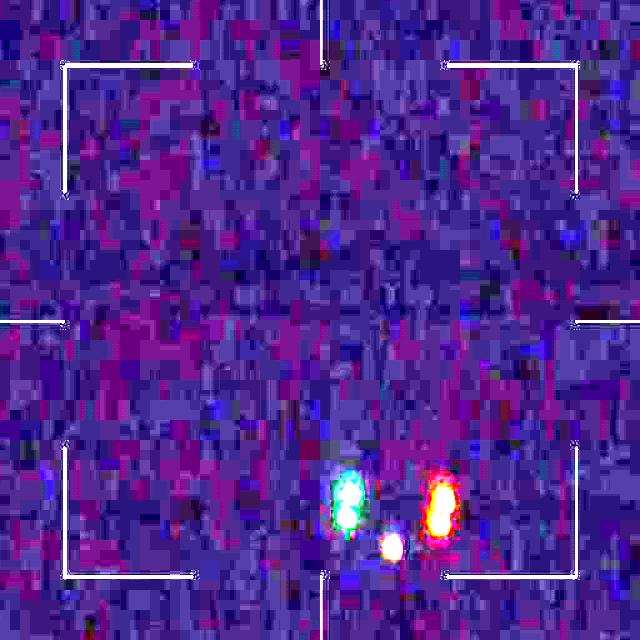bird: (336, 474, 455, 560)
